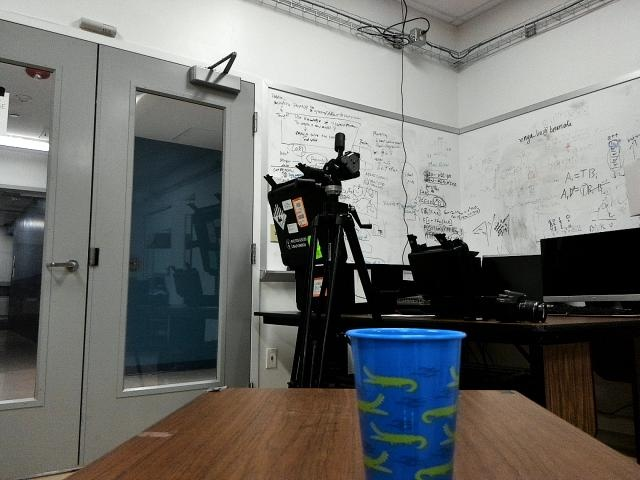water_cup: (340, 320, 469, 480)
